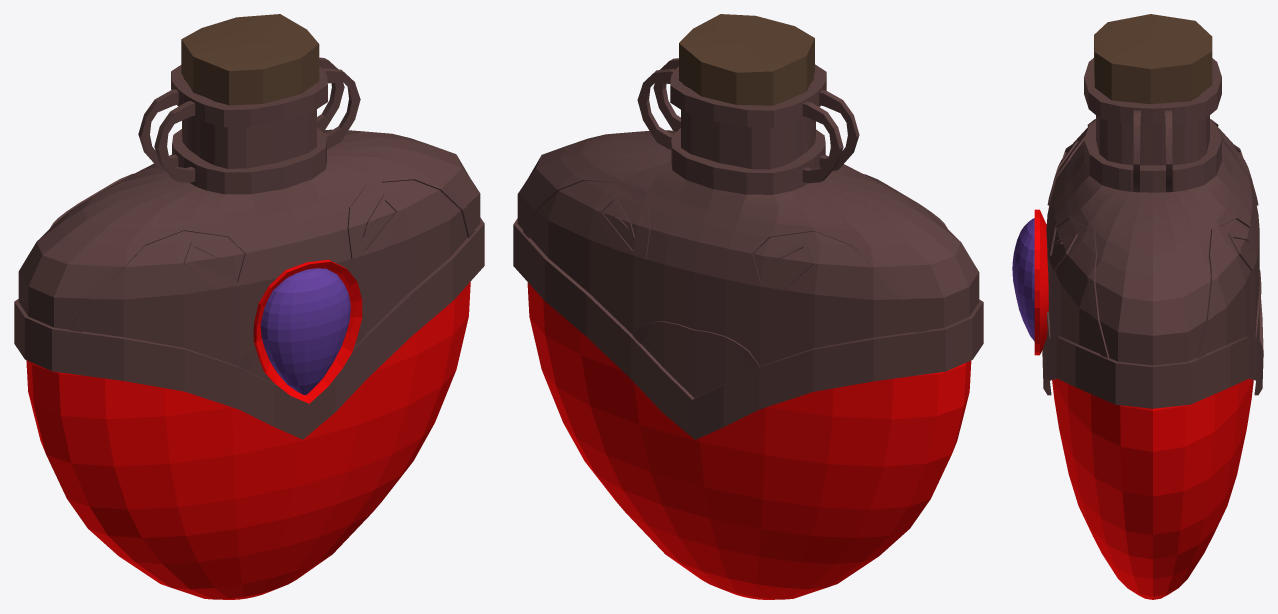
Rendered from Potion_life.fbx.
3 renders of one model, left to right at view 1: azimuth 30°, elevation 25°; view 2: azimuth 150°, elevation 25°; view 3: azimuth 270°, elevation 25°, orthographic.
Visible parts, largest first — view 1: CrystalHolder; view 2: CrystalHolder; view 3: CrystalHolder.
Part boxes in pixels (x1=…): CrystalHolder: x1=14, y1=14, x2=484, y2=599; CrystalHolder: x1=513, y1=14, x2=983, y2=599; CrystalHolder: x1=1012, y1=14, x2=1263, y2=599.
Size of the model in its own units: 31.67 by 37.48 by 15.56.
